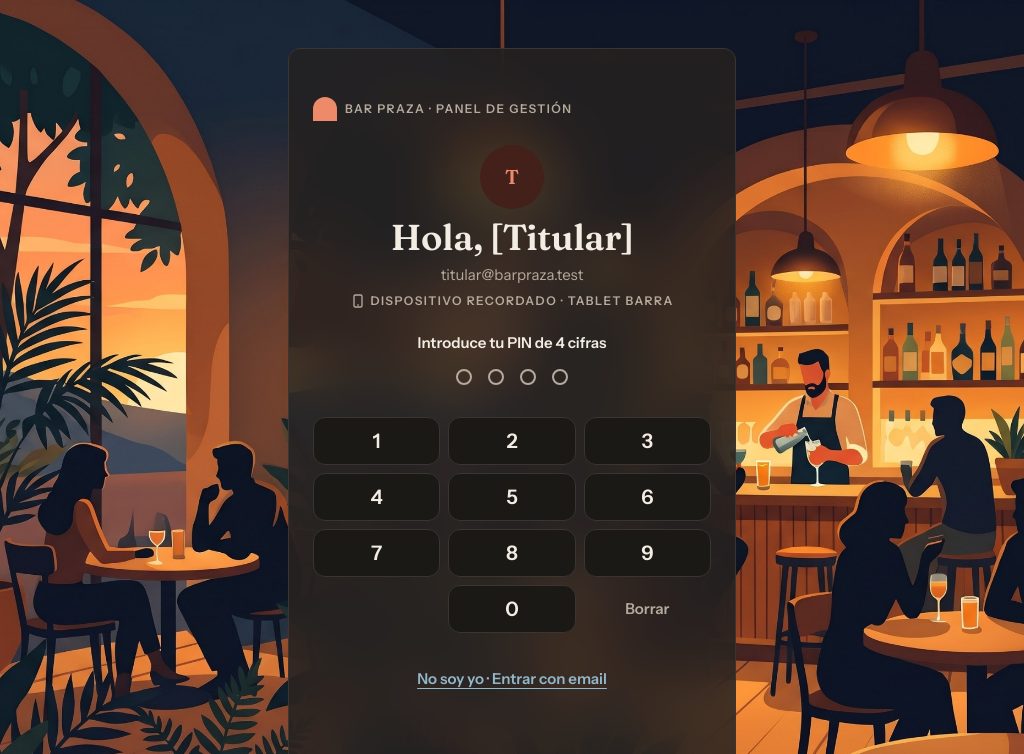
Test case: PIN unlock screen (/login/pin) › tells the user how many attempts are left after a wrong PIN
This screenshot has width=1024, height=754.
Check: the heading "Hola, [Titular]" is shown, box x1=391 y1=217 x2=633 y2=257
Click the button "0" at (512, 609), box x1=448 y1=585 x2=576 y2=633
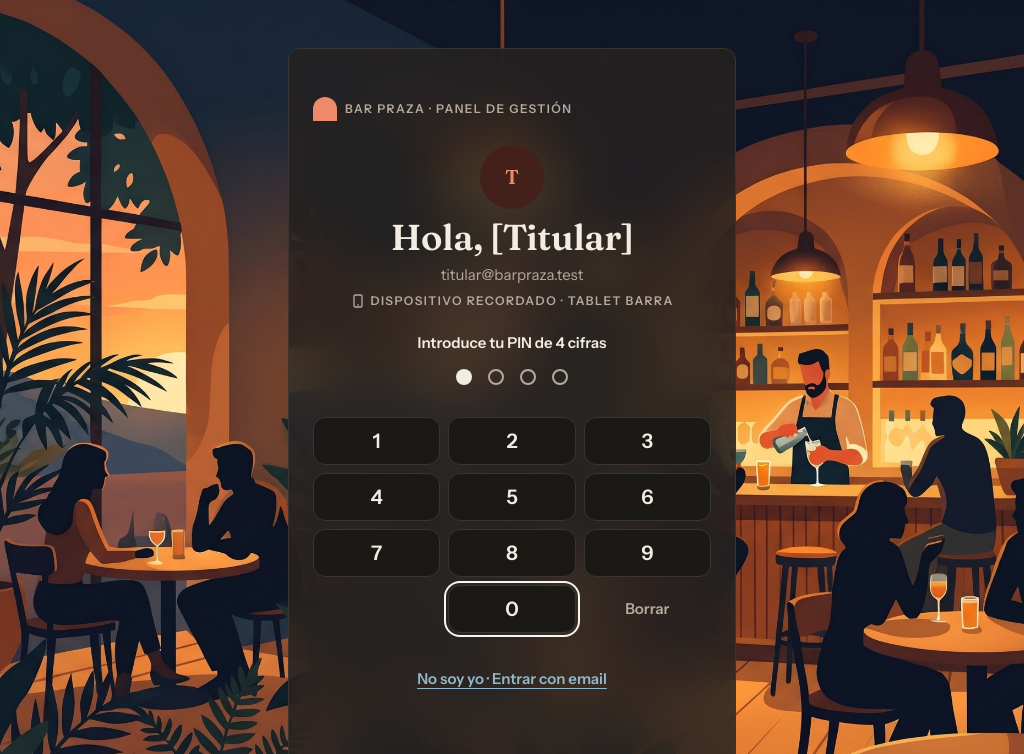
Click the button "0" at (512, 609), box x1=448 y1=585 x2=576 y2=633
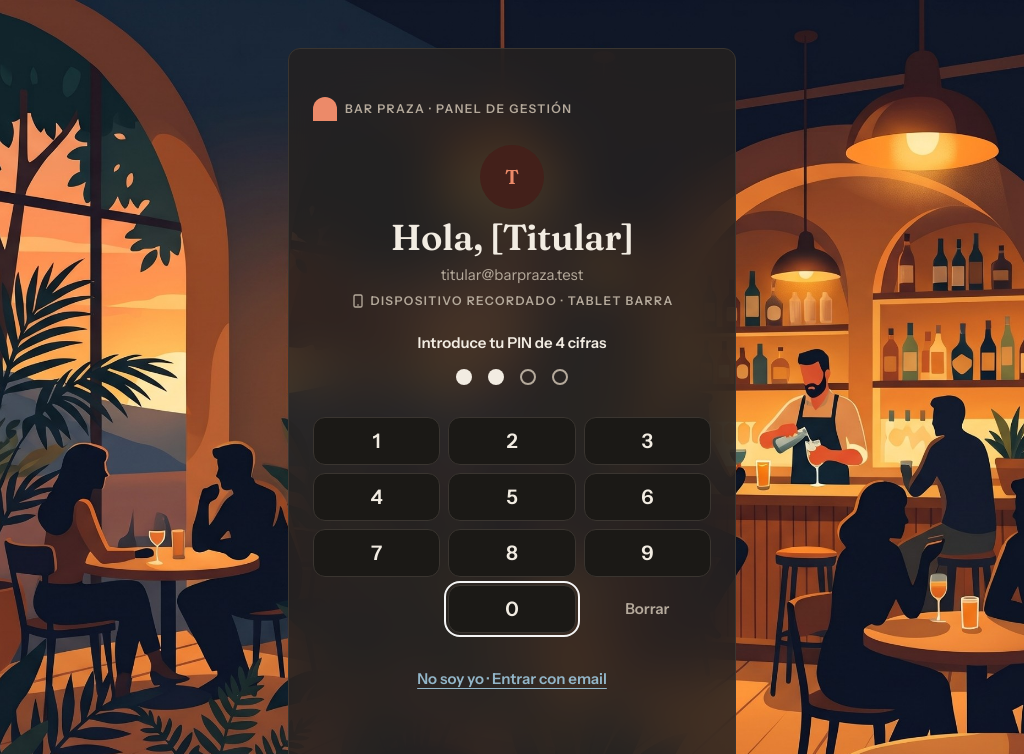
Click the button "0" at (512, 609), box x1=448 y1=585 x2=576 y2=633
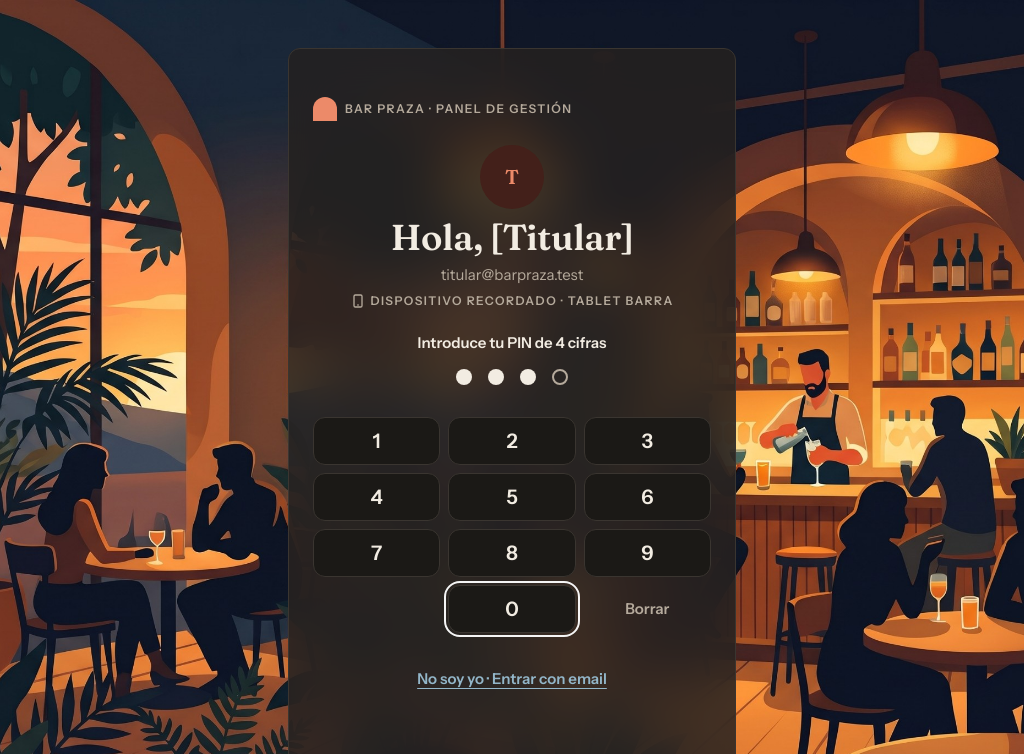
Click the button "0" at (512, 609), box x1=448 y1=585 x2=576 y2=633
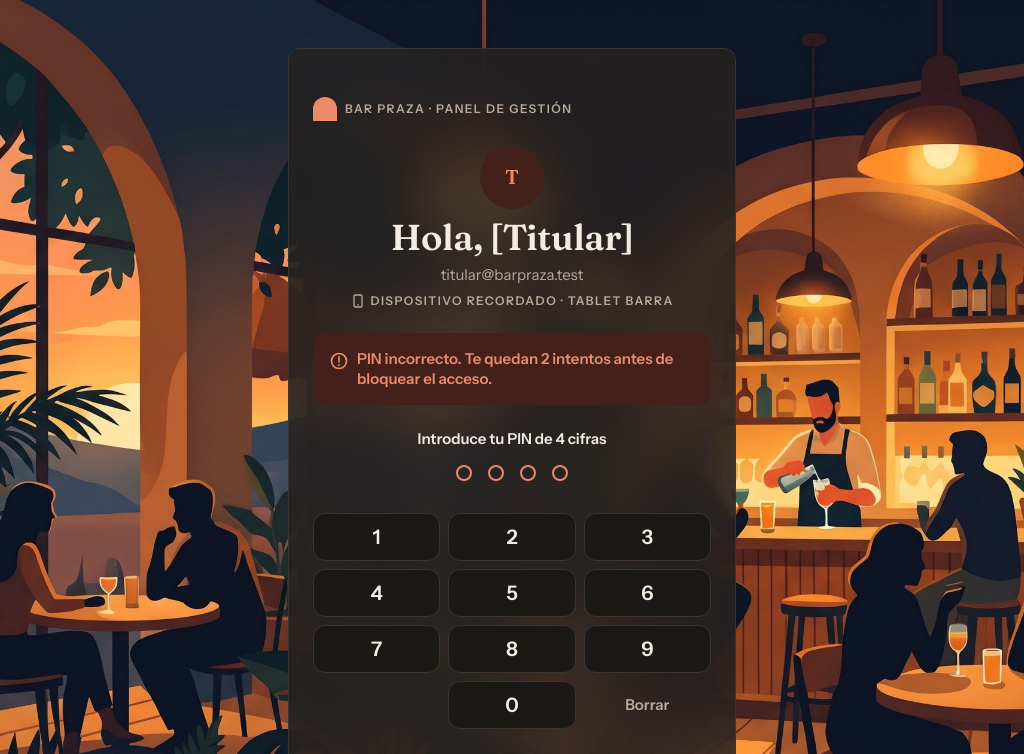
Check: the message "PIN incorrecto. Te quedan 2 intentos antes de bloquear el acceso." is shown, box x1=313 y1=333 x2=711 y2=405
